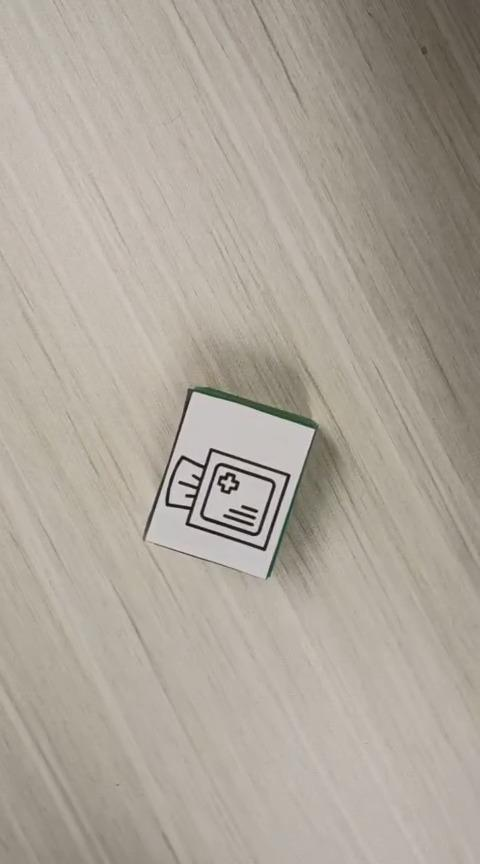Gauze: (141, 385, 319, 580)
